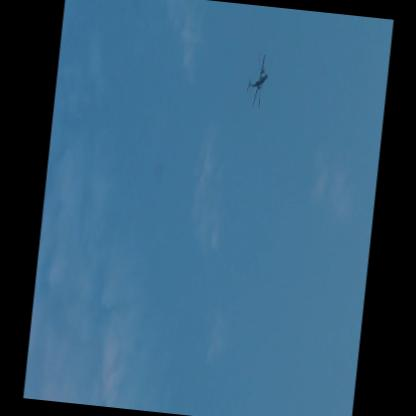plane: (244, 51, 272, 109)
